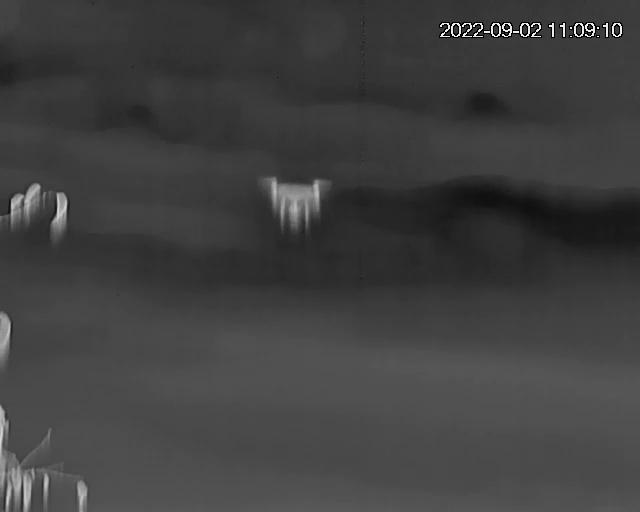DJI-Phantom: (259, 177, 335, 232)
